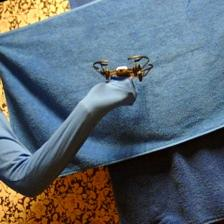drone: (94, 54, 157, 85)
